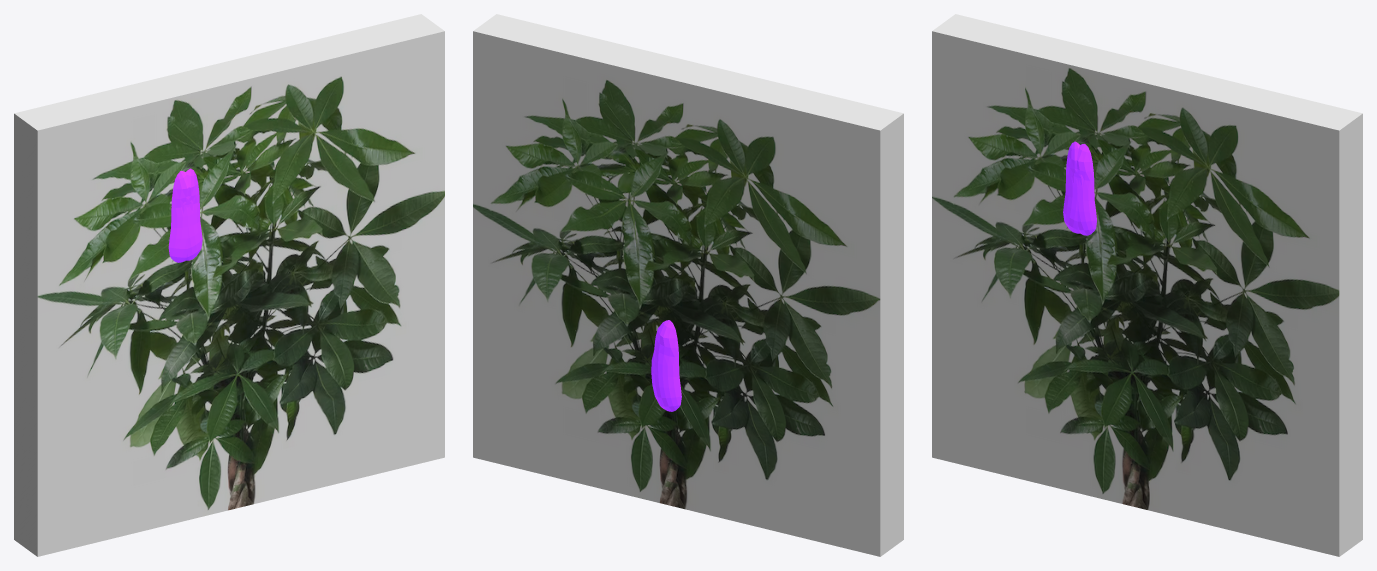
File: eggplant_6.dae
3 views of the same model, side by side, from view 1: azimuth 30°, elevation 25°; view 2: azimuth 150°, elevation 25°; view 3: azimuth 330°, elevation 25° (orthographic).
Visible parts, largest first — view 1: Cube, Sphere.001; view 2: Cube, Sphere.002; view 3: Cube, Sphere.001.
Boxes of the visible parts, x1=… form: Cube: x1=14, y1=14, x2=444, y2=556; Sphere.001: x1=168, y1=168, x2=202, y2=262; Cube: x1=473, y1=14, x2=903, y2=556; Sphere.002: x1=651, y1=320, x2=681, y2=411; Cube: x1=932, y1=14, x2=1362, y2=556; Sphere.001: x1=1063, y1=141, x2=1096, y2=235.
Bounding box in the file's own units: 1 × 0.1301 × 1.
Materials: 2 (1 with a texture image).
